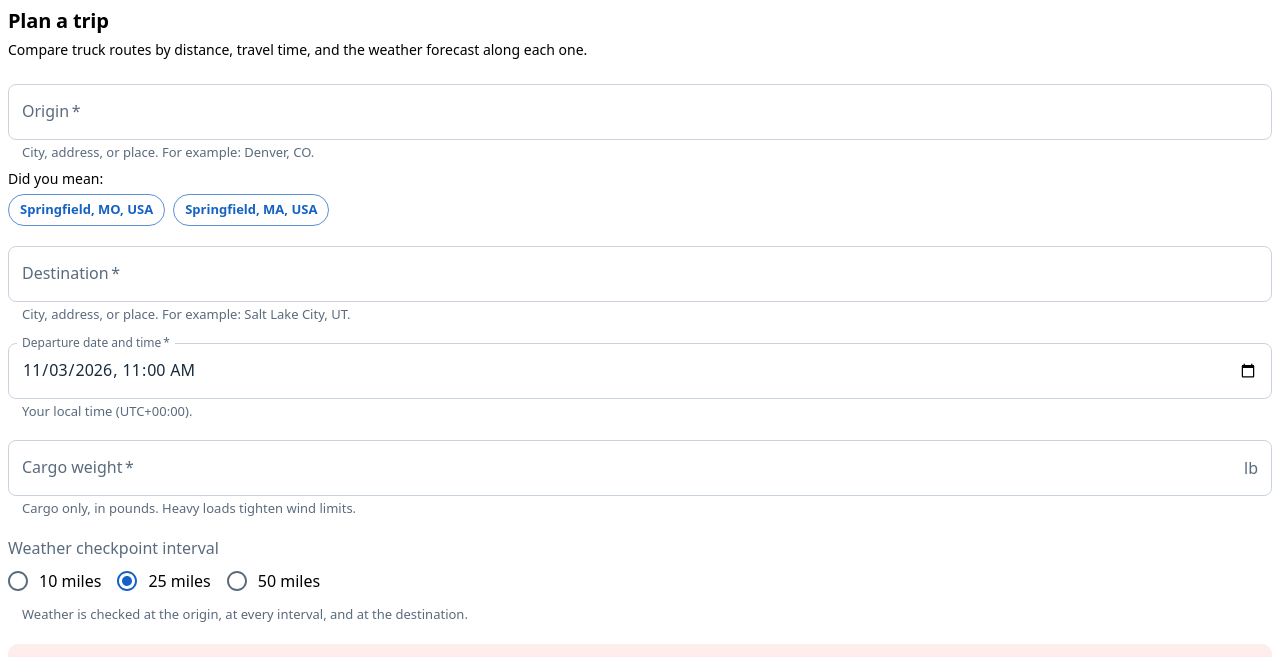
backend problems › offers ambiguous candidates that fill the field when chosen
Type "Springfield" into the field labelled "Origin *" at (640, 112), box [8,84,1272,140]
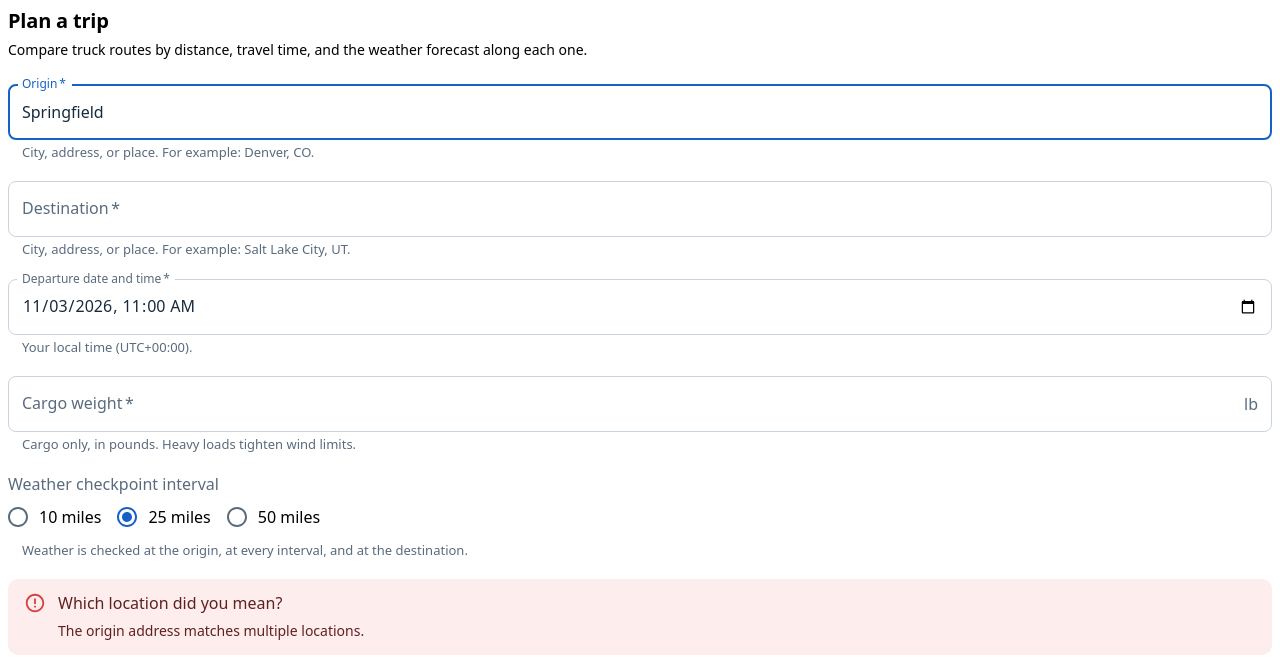
expect the text "Did you mean:" is gone: met
